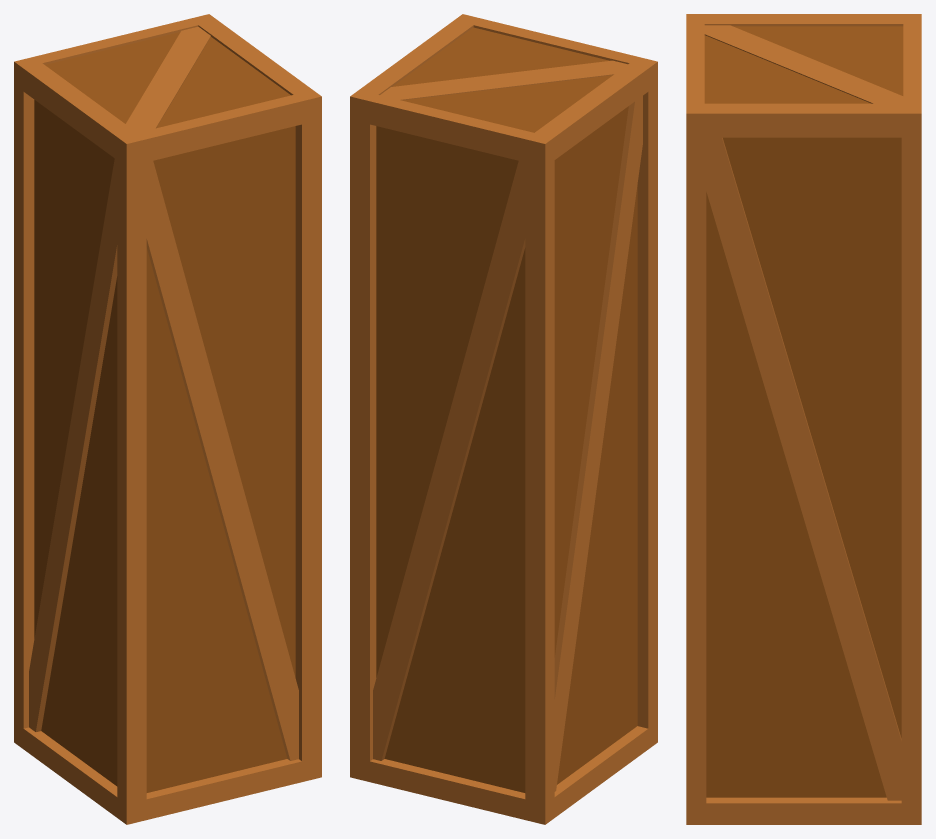
3 views of the same model, side by side, from view 1: azimuth 30°, elevation 25°; view 2: azimuth 150°, elevation 25°; view 3: azimuth 270°, elevation 25° (orthographic). The views are drawn at different scales.
Visible parts, largest first — view 1: Box3; view 2: Box3; view 3: Box3.
Part boxes in pixels (x1=…): Box3: x1=14, y1=14, x2=321, y2=824; Box3: x1=350, y1=14, x2=657, y2=824; Box3: x1=686, y1=14, x2=921, y2=824.
Bounding box in the file's own units: 0.9 × 3 × 0.9.
